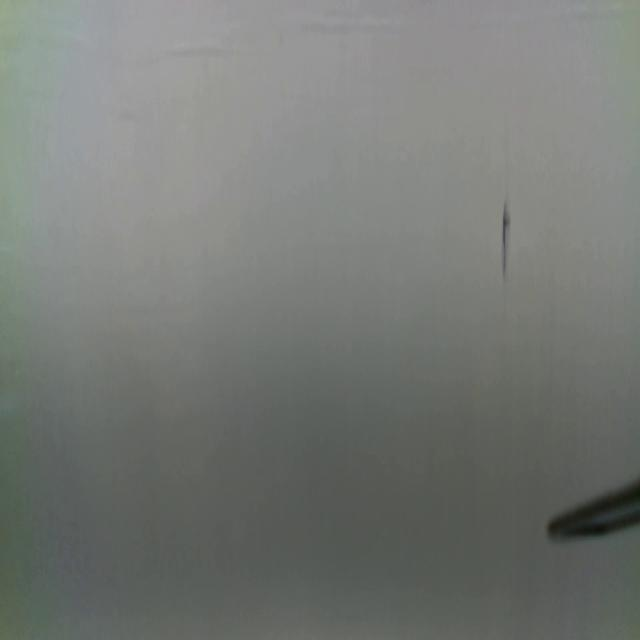hole: (501, 199, 510, 281)
